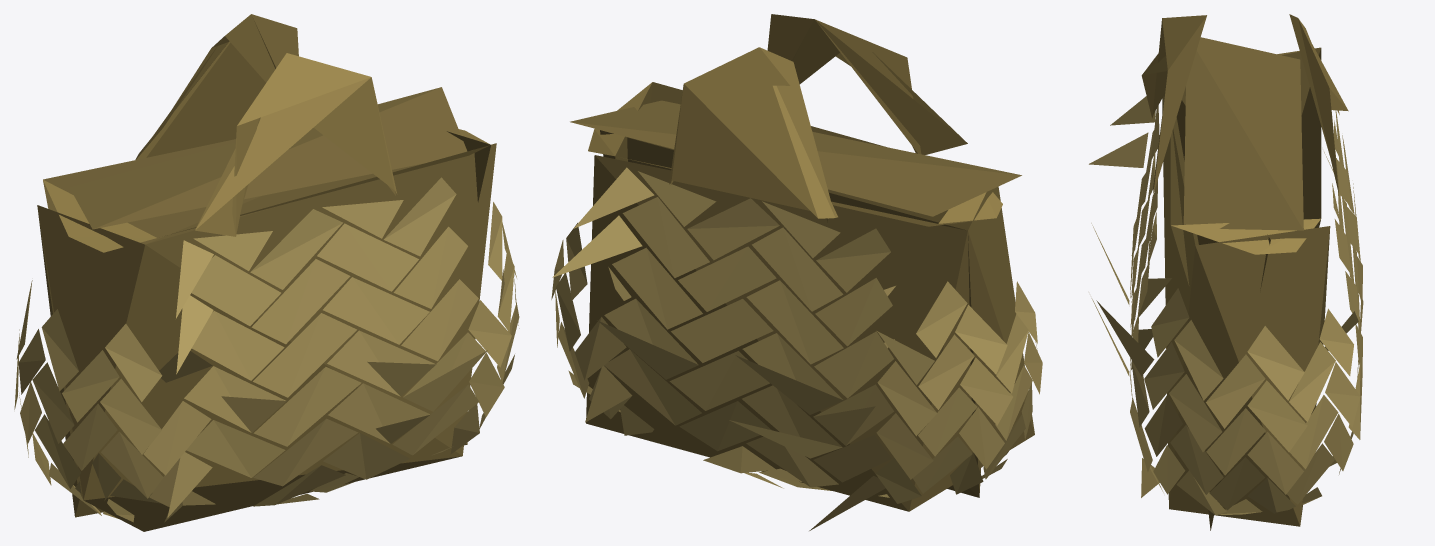
The model's file is pf_basket.glb.
The picture shows the model from 3 angles, left to right: view 1: azimuth 30°, elevation 25°; view 2: azimuth 150°, elevation 25°; view 3: azimuth 270°, elevation 25°; orthographic projection. The views are drawn at different scales.
Visible parts, largest first — view 1: body, body__far; view 2: body, body__far; view 3: body, body__far.
Part boxes in pixels (x1,y1,x2,y2): body: (14, 14, 519, 531); body__far: (37, 41, 487, 517); body: (551, 14, 1042, 530); body__far: (570, 20, 1021, 497); body: (1089, 14, 1363, 526); body__far: (1091, 37, 1350, 530).
Bounding box in the file's own units: 0.384 × 0.3579 × 0.2498.
